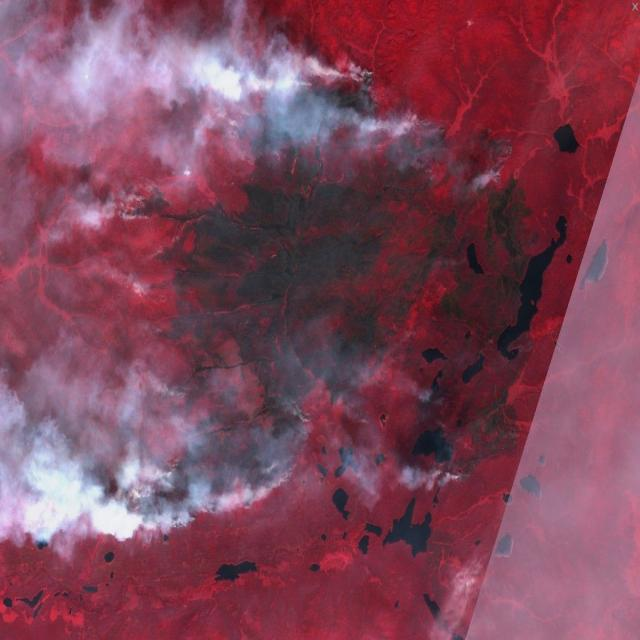fire: (128, 56, 514, 541)
